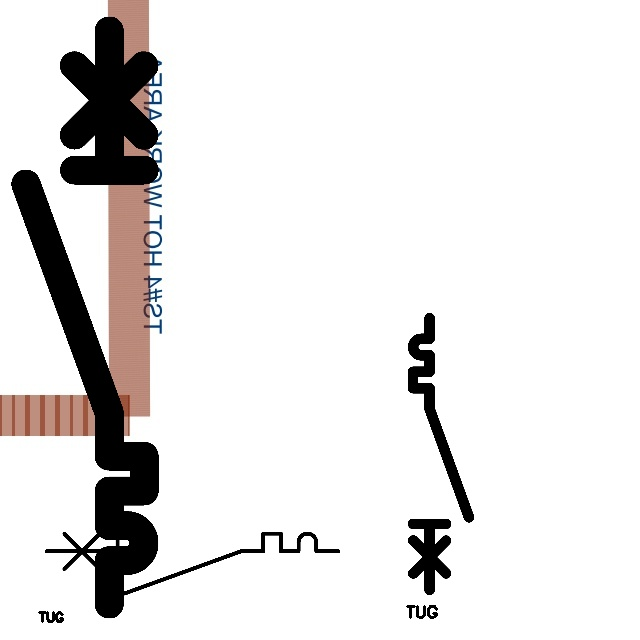interruptor_termomagnetico: (11, 16, 159, 619), (39, 526, 346, 601), (406, 311, 476, 597)
